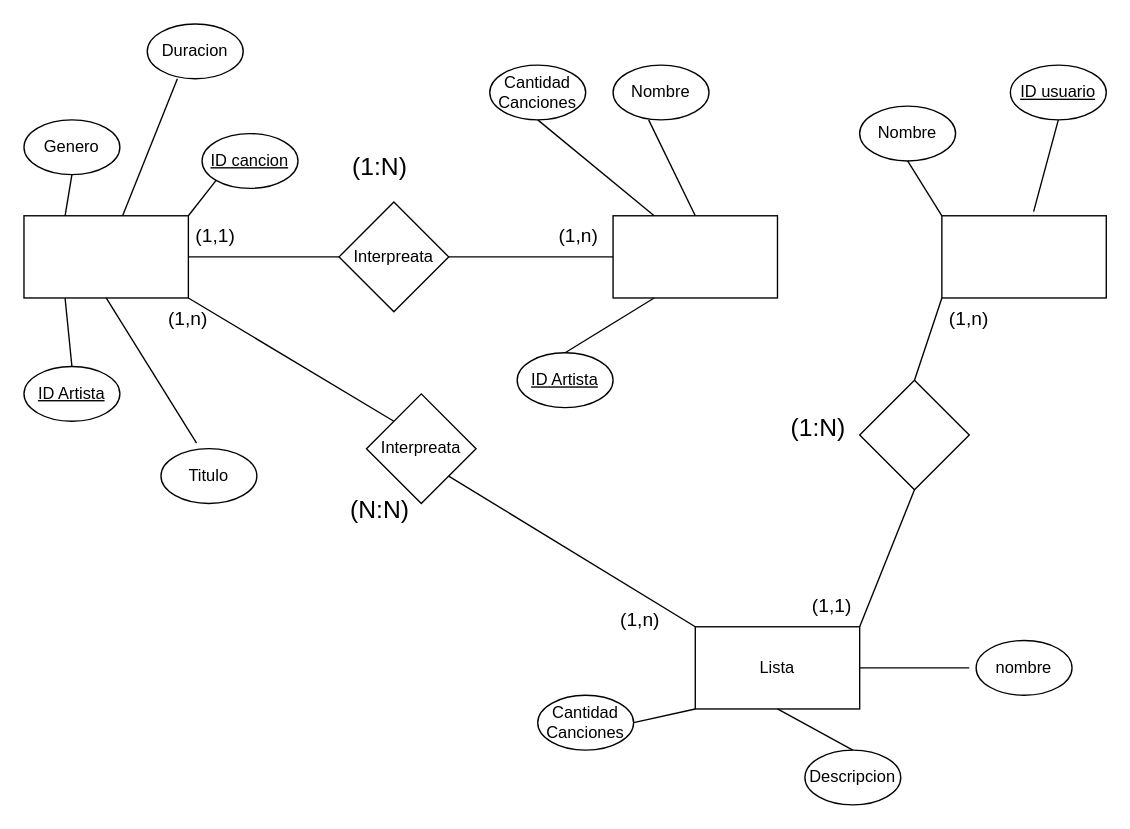
Some shapes in this 1130 by 829 pixel diagram are drawn without their labels. Here are the shapes that lost their labels. From the top down, the box of each, then its label:
(23, 214, 188, 298): Cancion
(612, 214, 777, 298): Artista
(941, 214, 1106, 298): Usuario
(858, 379, 969, 490): Crear
